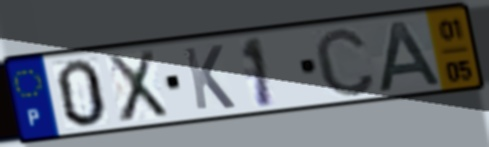0: (54, 57, 110, 129)
1: (237, 34, 279, 109)
A: (375, 18, 447, 95)
C: (310, 24, 379, 99)
K: (180, 43, 239, 113)
X: (103, 47, 172, 126)
